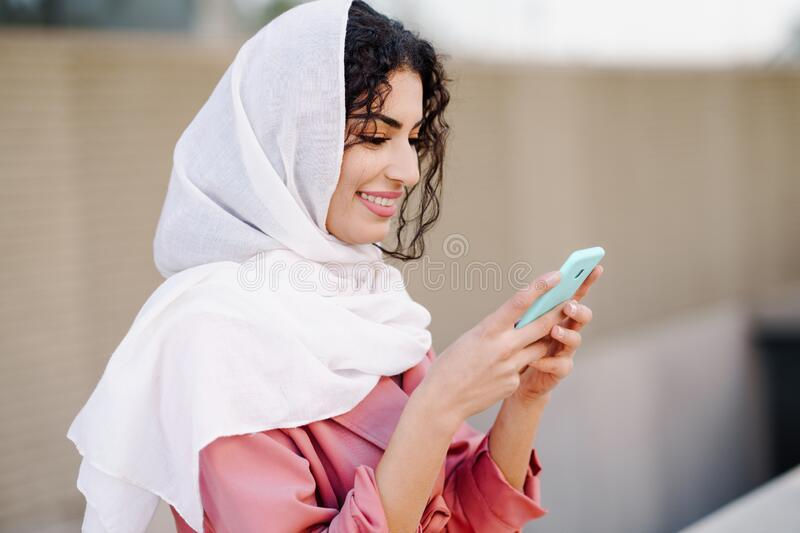No Mask: (315, 33, 478, 306)
